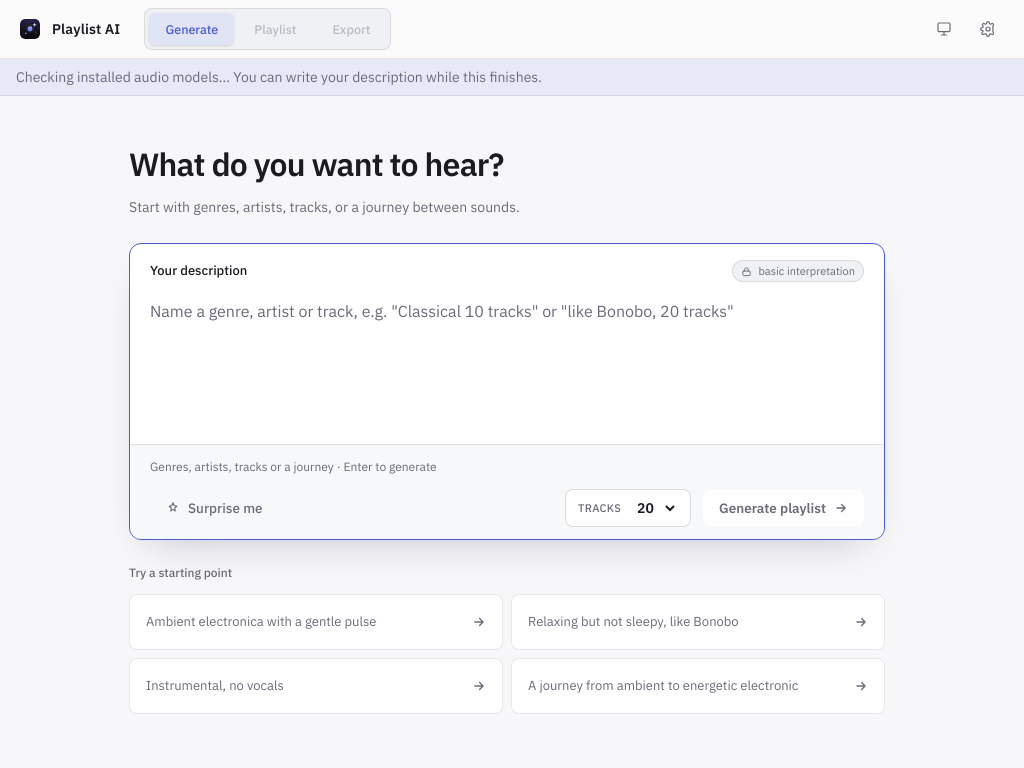
Test: shows the main screen while installed audio models validate and holds generation until ready
The image size is (1024, 768).
expect the text "Checking installed audio models" is shown: met, box [16,68,542,86]
Replace the text in the text box labelled "Your description" with "Ambient electronica with a gentle pulse" at [507, 363], box [130,282,884,444]
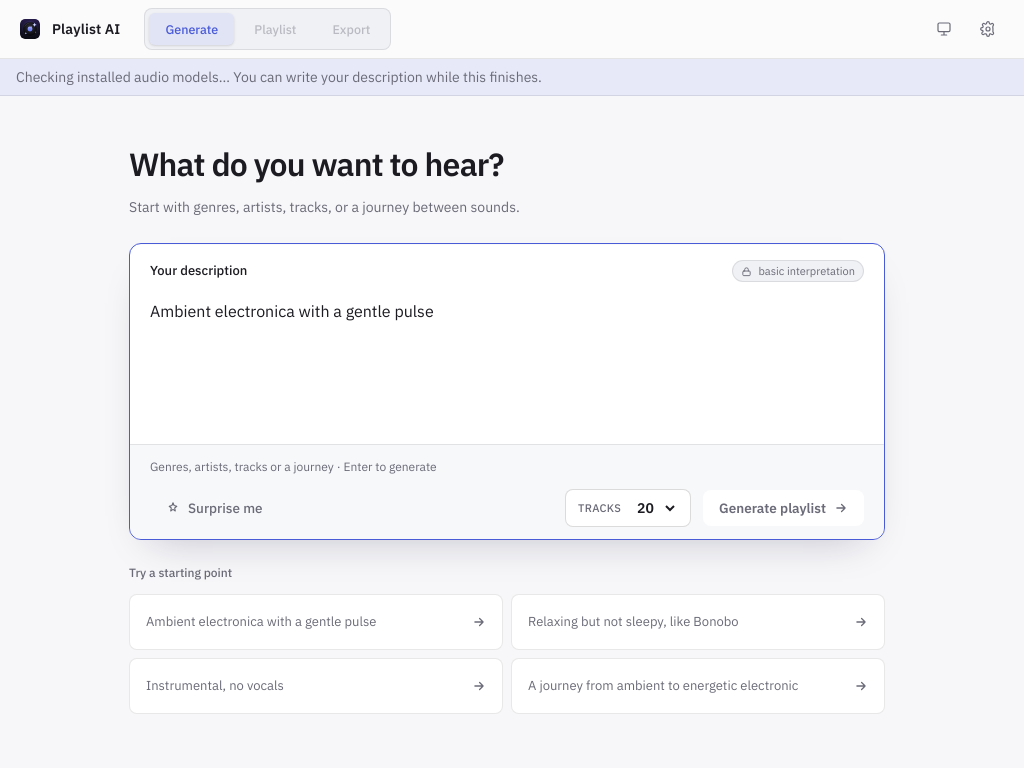
expect the button "Generate playlist" is disabled: met, box [703,490,864,526]
Press Enter in the text box labelled "Your description", box [130,282,884,444]
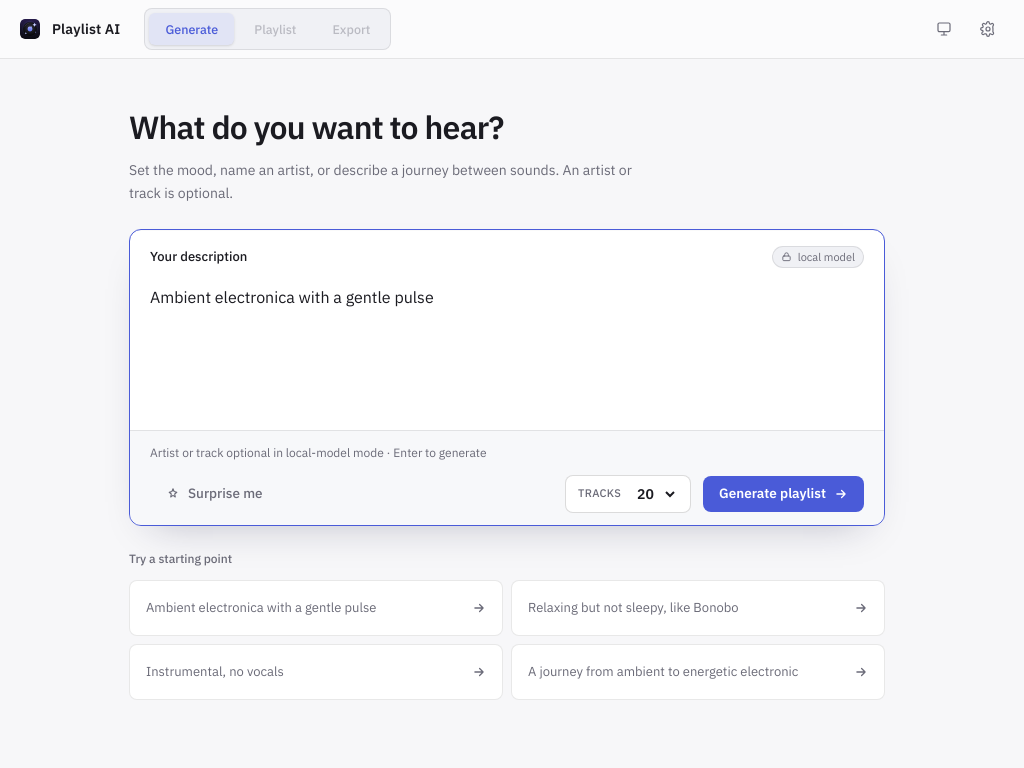
expect the button "Generate playlist" is enabled: met, box [703,476,864,512]
expect the text "Checking installed audio models" is gone: met
